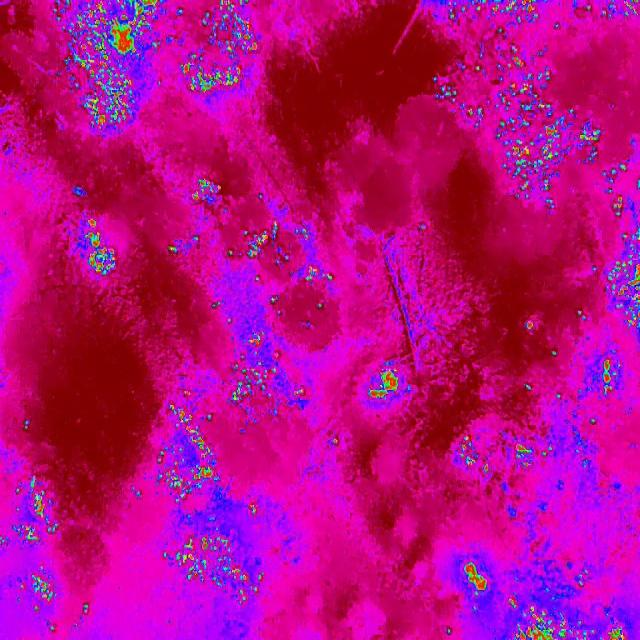fire: (429, 1, 603, 217), (147, 387, 276, 616), (0, 468, 96, 634), (48, 0, 161, 136), (210, 218, 336, 324), (218, 324, 311, 426), (178, 0, 266, 99), (594, 156, 640, 336), (503, 599, 629, 640), (520, 345, 566, 405), (84, 216, 118, 280), (594, 351, 624, 415), (458, 431, 488, 479), (368, 369, 403, 410), (168, 227, 207, 263), (596, 0, 640, 24), (188, 177, 227, 204), (459, 562, 489, 597), (508, 438, 534, 473), (327, 430, 343, 450), (524, 316, 538, 332)
